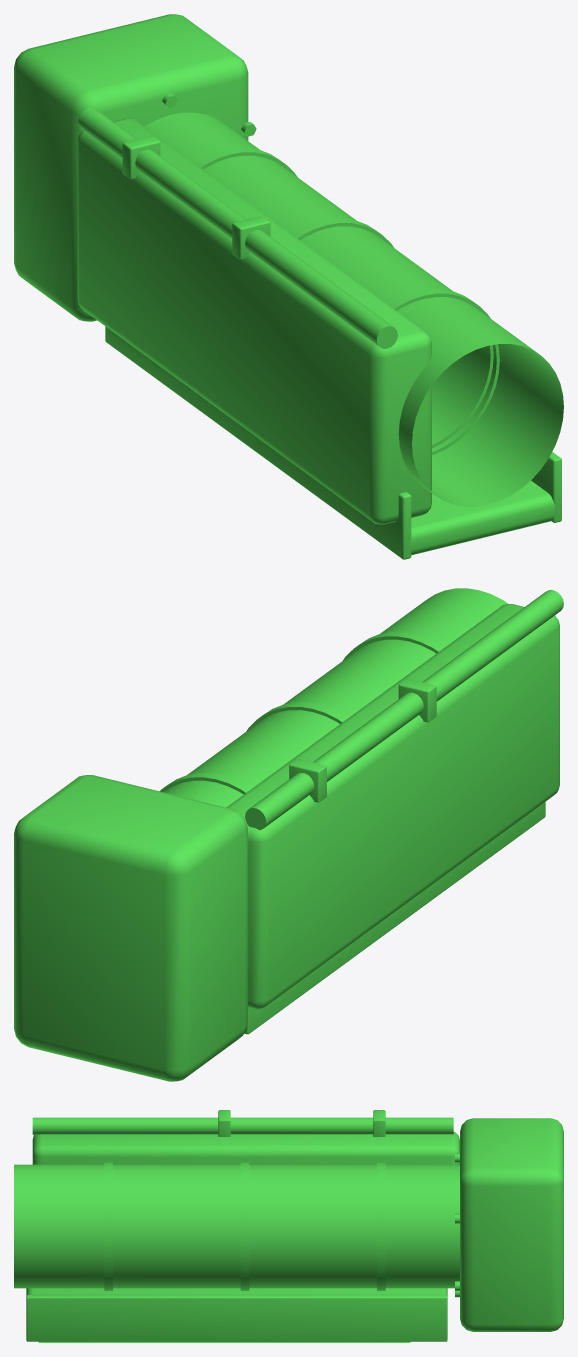
Rendered from arm_01_fixed.obj.
The picture shows the model from 3 angles, top to bottom: view 1: azimuth 30°, elevation 25°; view 2: azimuth 150°, elevation 25°; view 3: azimuth 270°, elevation 25°; orthographic projection. The views are drawn at different scales.
Visible parts, largest first — view 1: Arm_01_Fixed; view 2: Arm_01_Fixed; view 3: Arm_01_Fixed.
Boxes of the visible parts, x1=… form: Arm_01_Fixed: x1=14, y1=14, x2=563, y2=559; Arm_01_Fixed: x1=14, y1=588, x2=563, y2=1081; Arm_01_Fixed: x1=14, y1=1110, x2=563, y2=1342.
Bounding box in the file's own units: 245 × 304 × 888.
